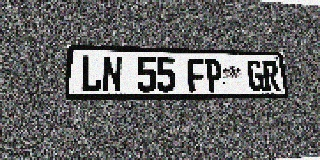5: (138, 57, 157, 92), (157, 57, 176, 92)
F: (187, 58, 206, 92)
G: (246, 60, 265, 91)
L: (80, 55, 102, 92)
N: (102, 56, 122, 92)
P: (204, 59, 223, 92)
R: (262, 60, 280, 91)
